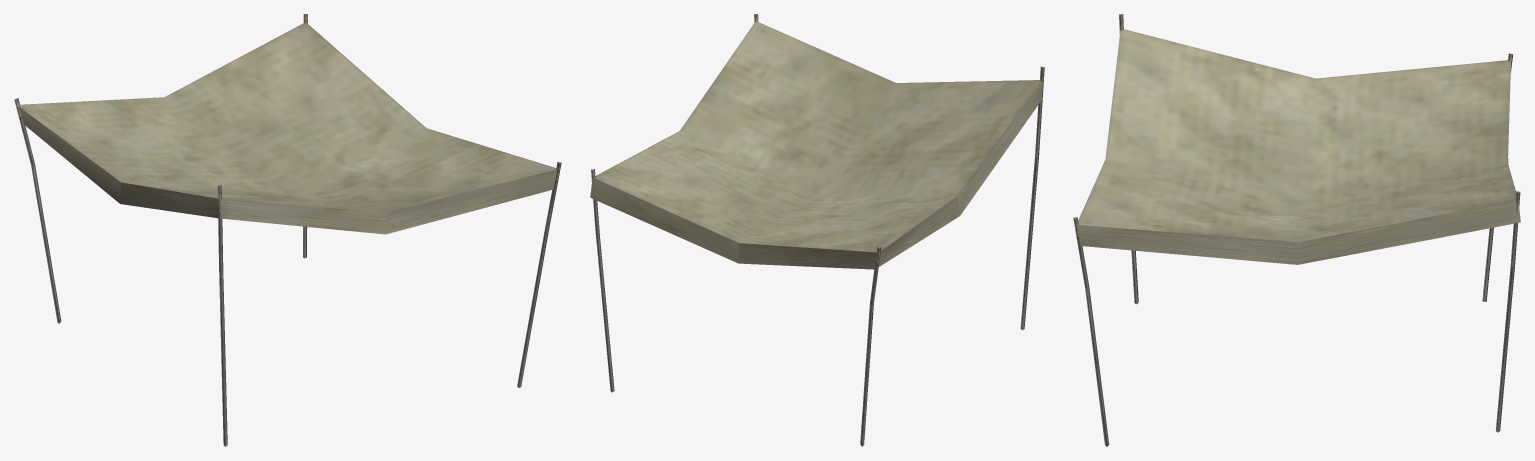
File: poi_corl_tent_small_l2.fbx
The picture shows the model from 3 angles, left to right: view 1: azimuth 30°, elevation 25°; view 2: azimuth 150°, elevation 25°; view 3: azimuth 270°, elevation 25°; orthographic projection. The views are drawn at different scales.
Parts seen in each view (by area): view 1: mesh_node; view 2: mesh_node; view 3: mesh_node.
Part boxes in pixels (<box>): mesh_node: <box>14,14,561,446</box>; mesh_node: <box>590,14,1044,446</box>; mesh_node: <box>1073,14,1520,446</box>.
Bounding box in the file's own units: 4.85 × 3.69 × 5.3.
Materials: 2 (2 with a texture image).
